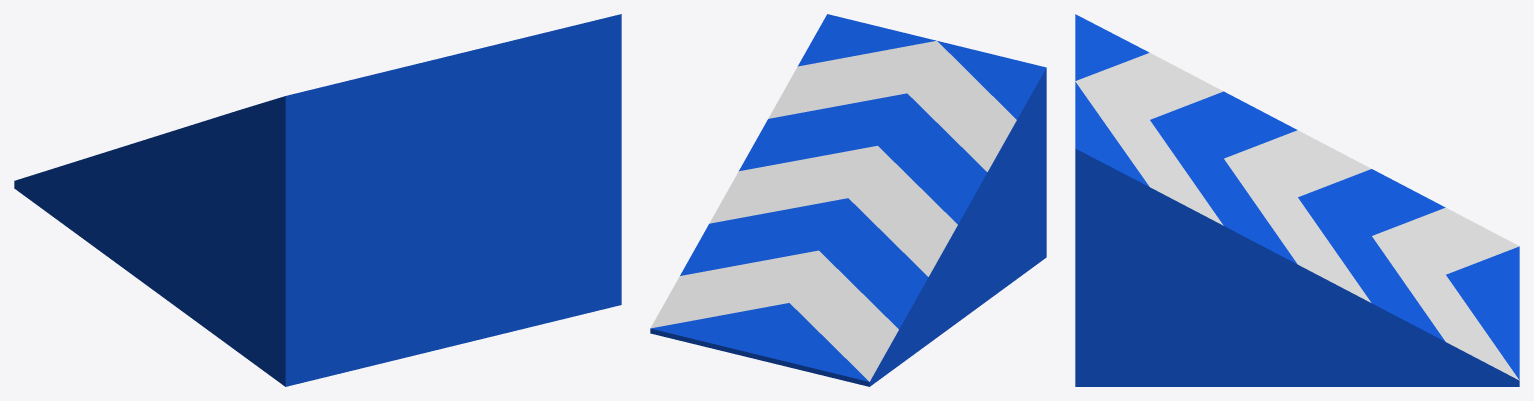
Rendered from Way_Up_.fbx.
3 views of the same model, side by side, from view 1: azimuth 30°, elevation 25°; view 2: azimuth 150°, elevation 25°; view 3: azimuth 270°, elevation 25° (orthographic). The views are drawn at different scales.
Visible parts, largest first — view 1: Way_Up_; view 2: Way_Up_; view 3: Way_Up_.
Part boxes in pixels (x1,y1,x2,y2): Way_Up_: (14, 14, 621, 386); Way_Up_: (650, 14, 1046, 386); Way_Up_: (1075, 14, 1519, 386).
Bounding box in the file's own units: 4 × 5.59 × 3.31.
